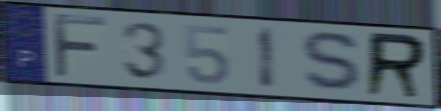3: (119, 20, 169, 81)
5: (183, 22, 232, 86)
F: (50, 11, 110, 80)
I: (257, 23, 277, 92)
R: (362, 29, 429, 101)
S: (298, 29, 368, 95)
